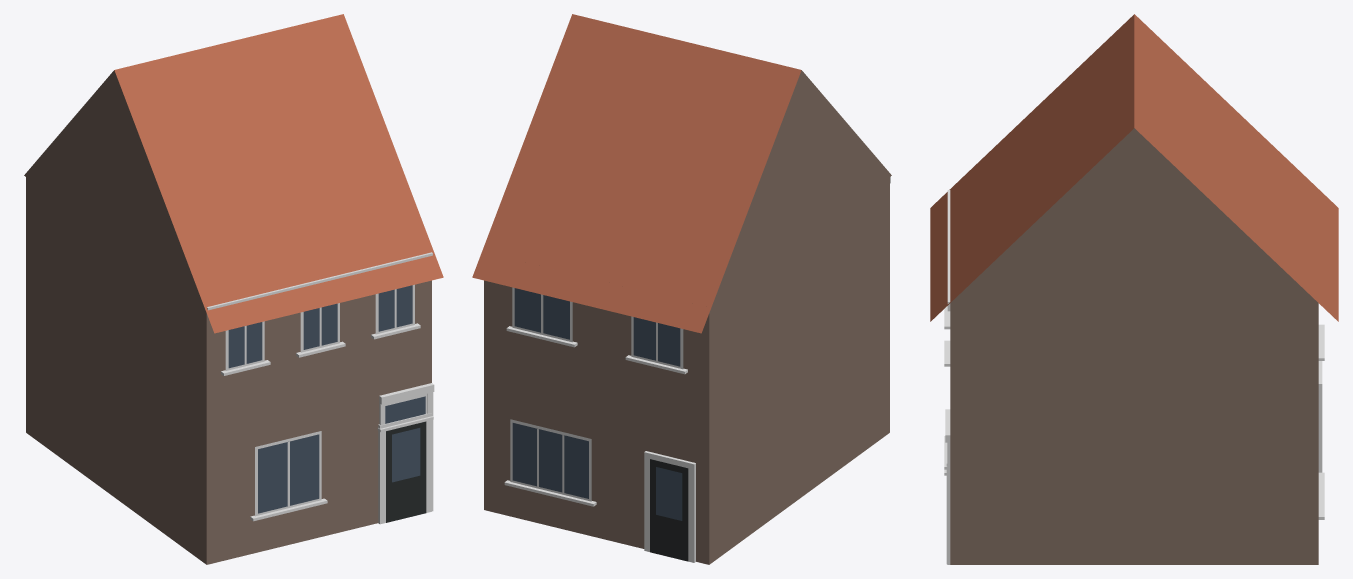
Rendered from nn-row-small__small__2__gable__long__solid__mid__mirror.glb.
3 views of the same model, side by side, from view 1: azimuth 30°, elevation 25°; view 2: azimuth 150°, elevation 25°; view 3: azimuth 270°, elevation 25° (orthographic).
Parts seen in each view (by area): view 1: nn-row-small__small__2__gable__long__solid__mid__mirror; view 2: nn-row-small__small__2__gable__long__solid__mid__mirror; view 3: nn-row-small__small__2__gable__long__solid__mid__mirror.
Boxes of the visible parts, <box> form: nn-row-small__small__2__gable__long__solid__mid__mirror: <box>24,14,443,564</box>; nn-row-small__small__2__gable__long__solid__mid__mirror: <box>472,14,891,564</box>; nn-row-small__small__2__gable__long__solid__mid__mirror: <box>930,14,1338,564</box>.
Size of the model in its own units: 5.4 by 9.66 by 8.17.
